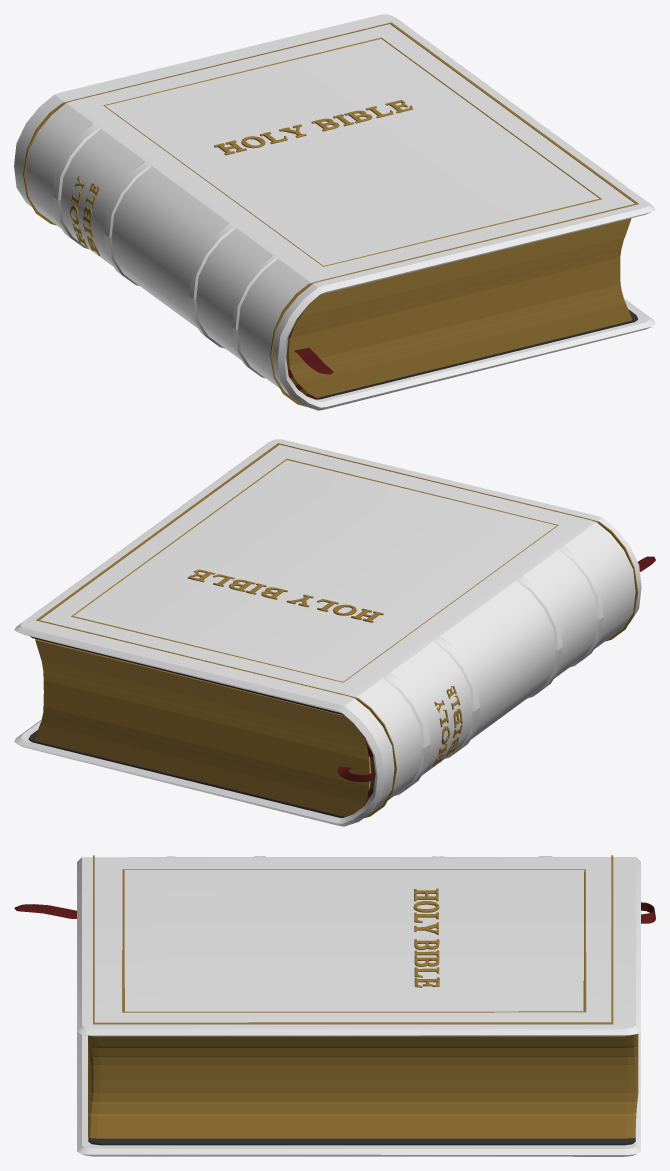
Rendered from bible.fbx.
3 renders of one model, top to bottom at view 1: azimuth 30°, elevation 25°; view 2: azimuth 150°, elevation 25°; view 3: azimuth 270°, elevation 25°, orthographic. The views are drawn at different scales.
Parts seen in each view (by area): view 1: hard cover, golden pages, Frame 2, Frame 1, TEXT 1, empastado 2.001, TEXT 2; view 2: hard cover, golden pages, Frame 2, empastado 2.001, Frame 1, TEXT 1, TEXT 2; view 3: hard cover, golden pages, empastado 2.001, Frame 2, Frame 1, TEXT 1, bookmark.001.
Part boxes in pixels (box(x1,y1,x2,y2)): hard cover: box(14, 14, 655, 410); golden pages: box(288, 218, 632, 397); Frame 2: box(23, 22, 638, 406); Frame 1: box(103, 37, 601, 266); TEXT 1: box(214, 100, 413, 155); empastado 2.001: box(315, 309, 637, 399); TEXT 2: box(70, 176, 100, 255); hard cover: box(14, 439, 641, 826); golden pages: box(35, 639, 371, 816); Frame 2: box(36, 443, 638, 817); empastado 2.001: box(28, 636, 344, 817); Frame 1: box(71, 459, 558, 682); TEXT 1: box(187, 569, 383, 622); TEXT 2: box(433, 686, 462, 766); hard cover: box(77, 856, 640, 1156); golden pages: box(88, 1033, 638, 1138); empastado 2.001: box(88, 1137, 635, 1145); Frame 2: box(93, 855, 613, 1024); Frame 1: box(122, 869, 586, 1012); TEXT 1: box(413, 888, 439, 987); bookmark.001: box(14, 902, 655, 923).
Bounding box in the file's own units: 690 × 218 × 955.
